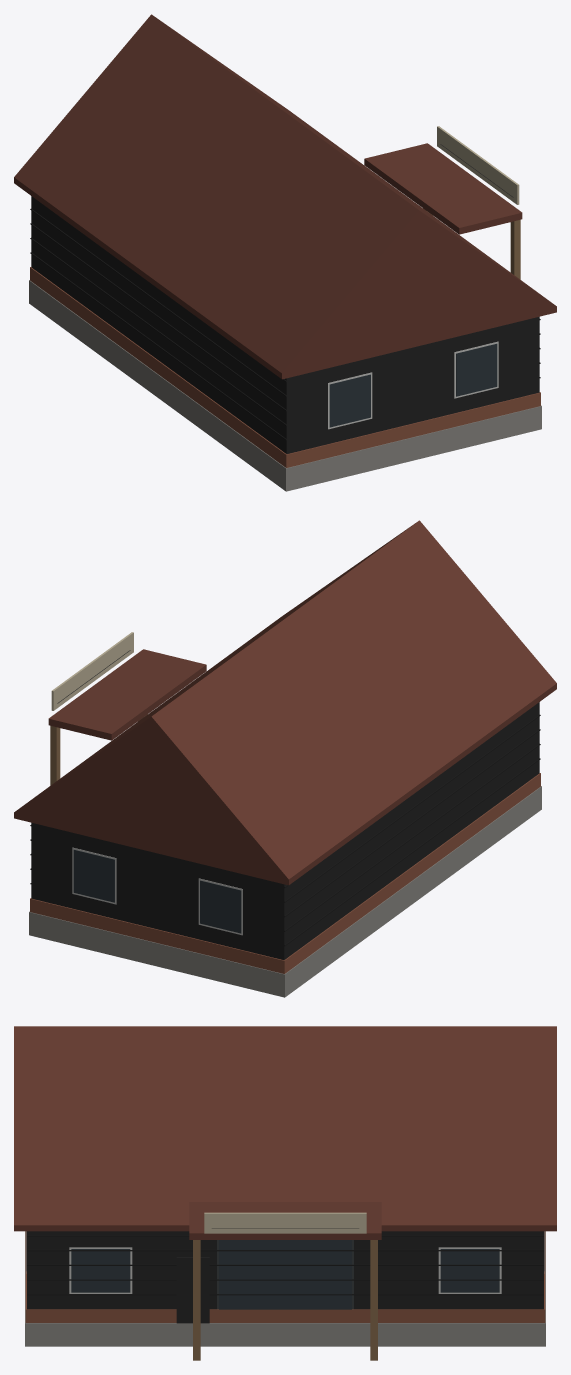
File: SM_Prop_cafe_building_11_LOD1.glb
3 renders of one model, top to bottom at view 1: azimuth 30°, elevation 25°; view 2: azimuth 150°, elevation 25°; view 3: azimuth 270°, elevation 25°, orthographic.
Parts seen in each view (by area): view 1: SM_Prop_cafe_building_11_LOD1; view 2: SM_Prop_cafe_building_11_LOD1; view 3: SM_Prop_cafe_building_11_LOD1.
Part boxes in pixels (bbox=[...]): SM_Prop_cafe_building_11_LOD1: bbox=[14, 14, 556, 491]; SM_Prop_cafe_building_11_LOD1: bbox=[14, 520, 556, 997]; SM_Prop_cafe_building_11_LOD1: bbox=[14, 1026, 556, 1360].
Bounding box in the file's own units: 10.5 × 7.68 × 14.7.
